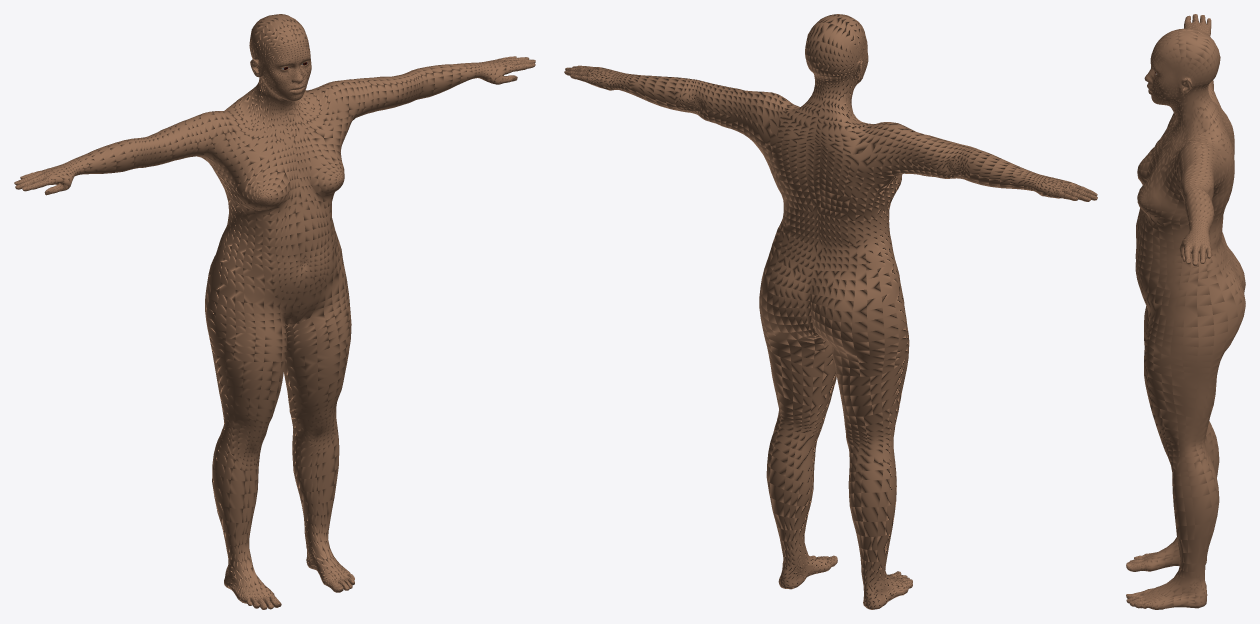
3 renders of one model, left to right at view 1: azimuth 30°, elevation 25°; view 2: azimuth 150°, elevation 25°; view 3: azimuth 270°, elevation 25°, orthographic. The views are drawn at different scales.
Parts seen in each view (by area): view 1: female_genericMesh; view 2: female_genericMesh; view 3: female_genericMesh.
Boxes of the visible parts, box(x1,y1,x2,y2) form: female_genericMesh: box(14, 14, 535, 609); female_genericMesh: box(564, 14, 1097, 609); female_genericMesh: box(1126, 14, 1245, 609).
Size of the model in its own units: 155 by 161 by 31.38.
2 materials, 1 textured.
